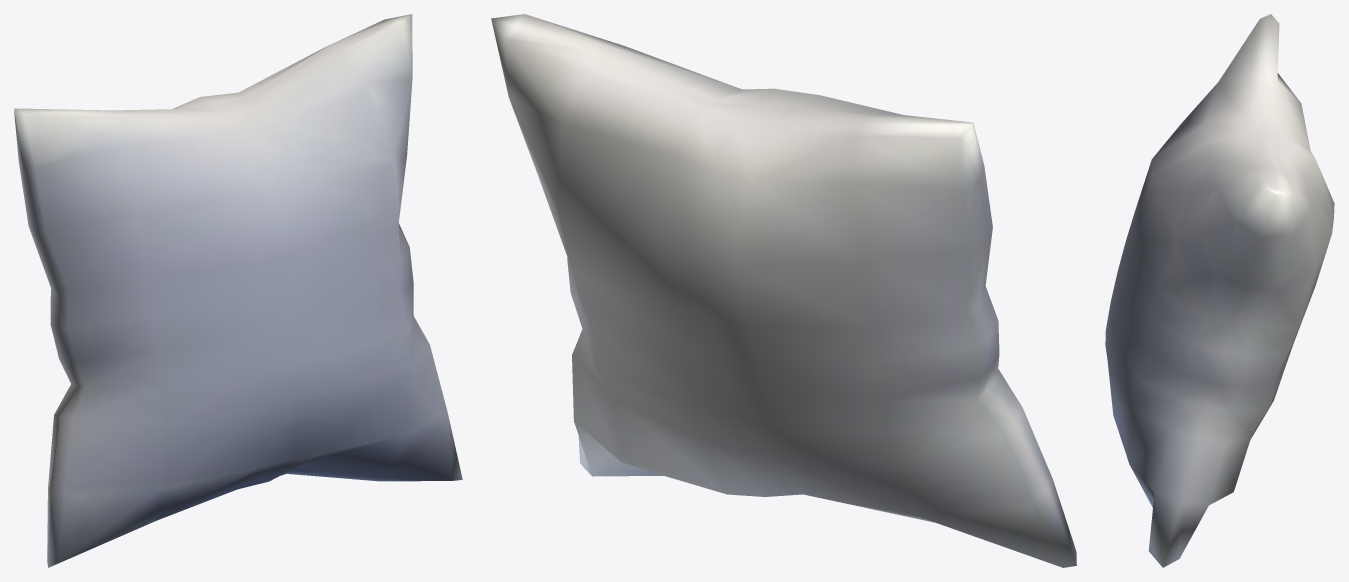
The model's file is M_Bantal.fbx.
The picture shows the model from 3 angles, left to right: view 1: azimuth 30°, elevation 25°; view 2: azimuth 150°, elevation 25°; view 3: azimuth 270°, elevation 25°; orthographic projection. The views are drawn at different scales.
Parts seen in each view (by area): view 1: Bantal; view 2: Bantal; view 3: Bantal.
Boxes of the visible parts, x1,y1,x2,y2 form: Bantal: (14, 14, 462, 567); Bantal: (491, 14, 1076, 567); Bantal: (1105, 14, 1334, 567).
Bounding box in the file's own units: 49.76 × 46.93 × 25.49.
